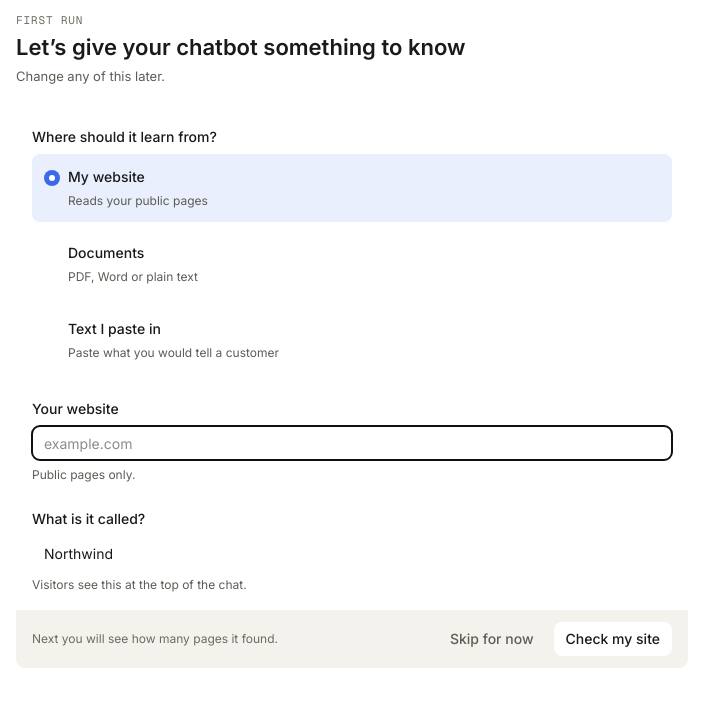
Test case: FirstRunPage › refuses to submit without a website, and says so on the field
The width and height of the screenshot is (705, 707).
Click the button "Check my site" at (613, 639), box [554,622,672,656]
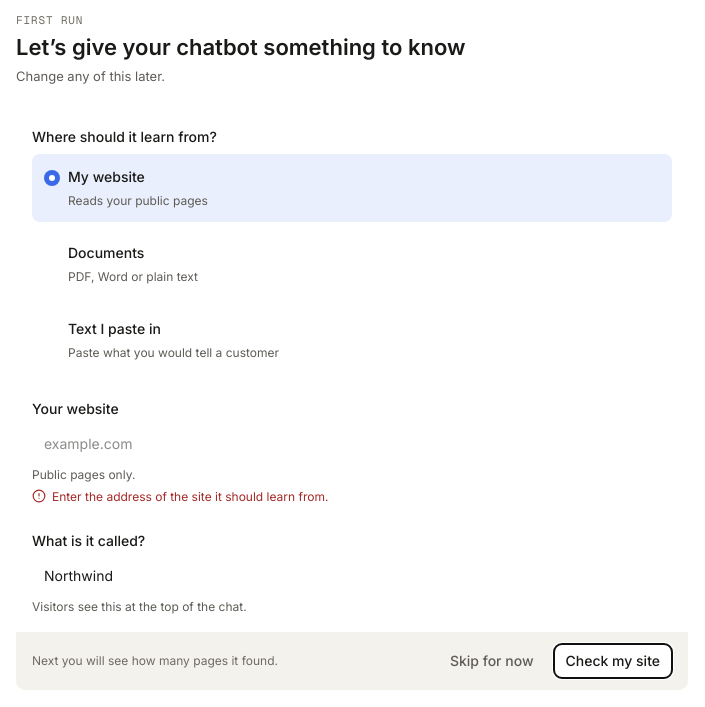
Result: the text "Enter the address of the site it should learn from." is shown at [52,488,328,506]
